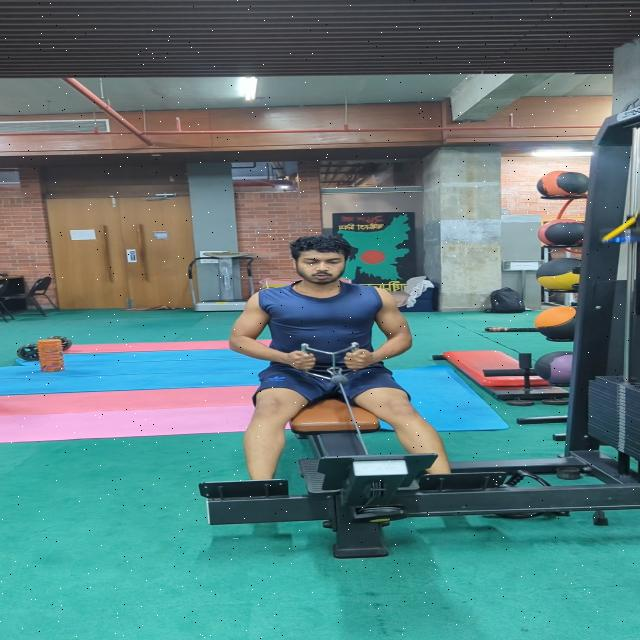Normal_RowingMachineExercise: (207, 234, 463, 491)
